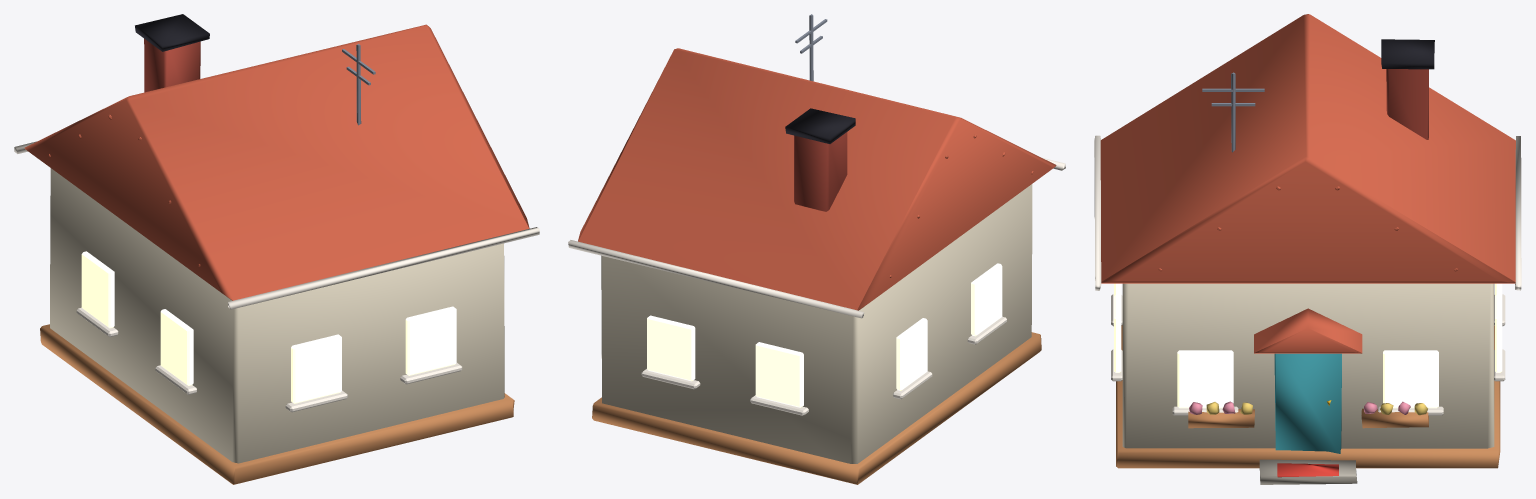
The model's file is house.glb.
The picture shows the model from 3 angles, left to right: view 1: azimuth 30°, elevation 25°; view 2: azimuth 150°, elevation 25°; view 3: azimuth 270°, elevation 25°; orthographic projection. The views are drawn at different scales.
Parts seen in each view (by area): view 1: house; view 2: house; view 3: house.
Boxes of the visible parts, box(x1,y1,x2,y2) form: house: box(14, 14, 539, 484); house: box(568, 14, 1065, 484); house: box(1094, 14, 1521, 484).
Size of the model in its own units: 6.14 by 6.19 by 6.86.
1 material, 1 textured.
